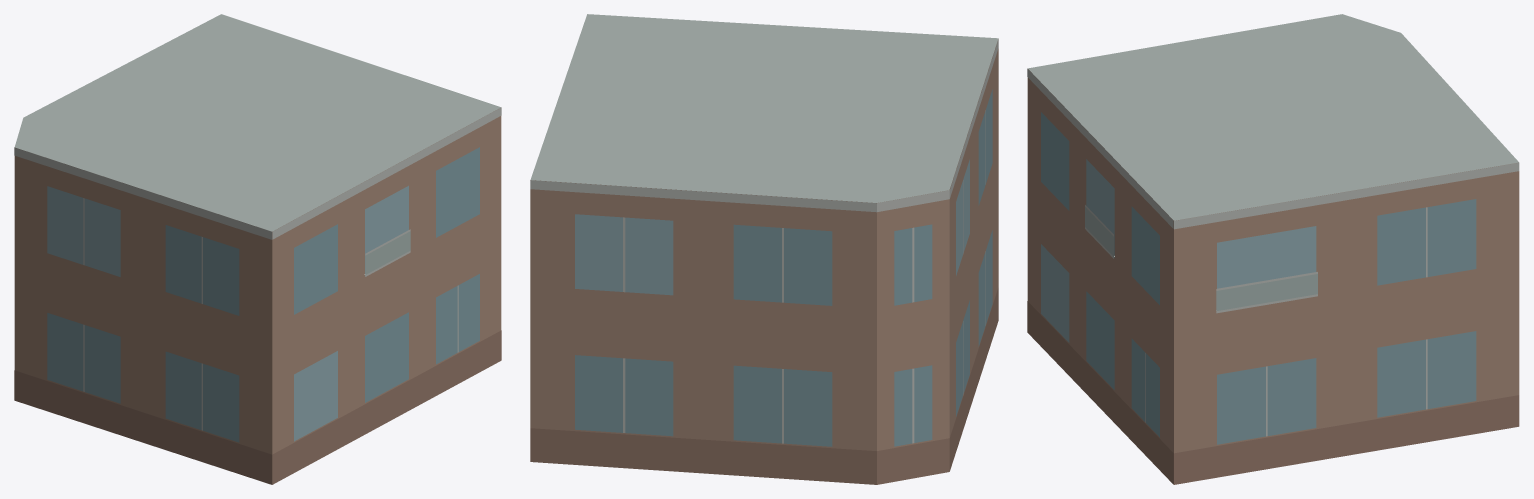
File: survey-upis-32732453.glb
3 views of the same model, side by side, from view 1: azimuth 30°, elevation 25°; view 2: azimuth 150°, elevation 25°; view 3: azimuth 270°, elevation 25° (orthographic). The views are drawn at different scales.
Visible parts, largest first — view 1: survey-upis-32732453.tmp; view 2: survey-upis-32732453.tmp; view 3: survey-upis-32732453.tmp.
Boxes of the visible parts, x1,y1,x2,y2 form: survey-upis-32732453.tmp: (14,14,501,484); survey-upis-32732453.tmp: (530,14,998,484); survey-upis-32732453.tmp: (1027,14,1519,484).
Bounding box in the file's own units: 12.6 × 7.5 × 12.67.
